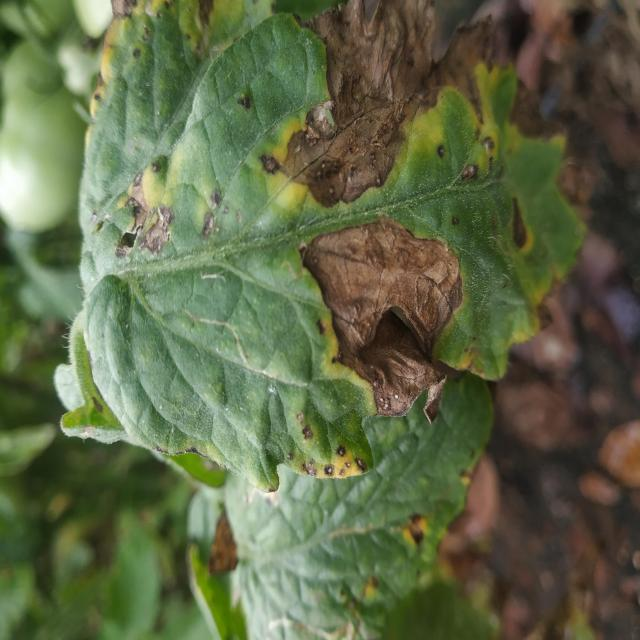Early Blight: (146, 74, 640, 602)
